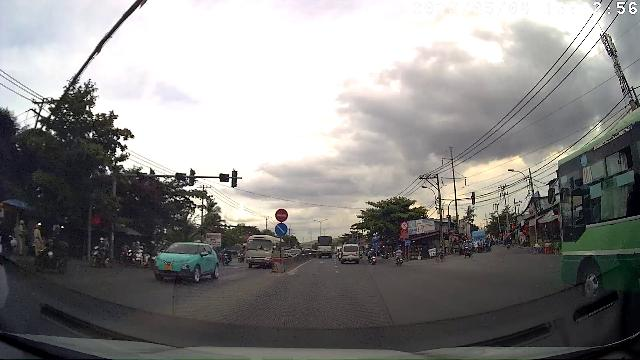102-cam-di-nguoc-chieu: (275, 208, 288, 222)
302a-huong-phai-di-vong-chuong-ngai-vat-1: (275, 223, 288, 236)
